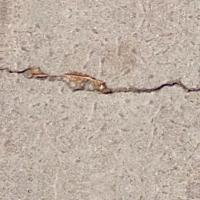crack: (0, 39, 199, 107)
